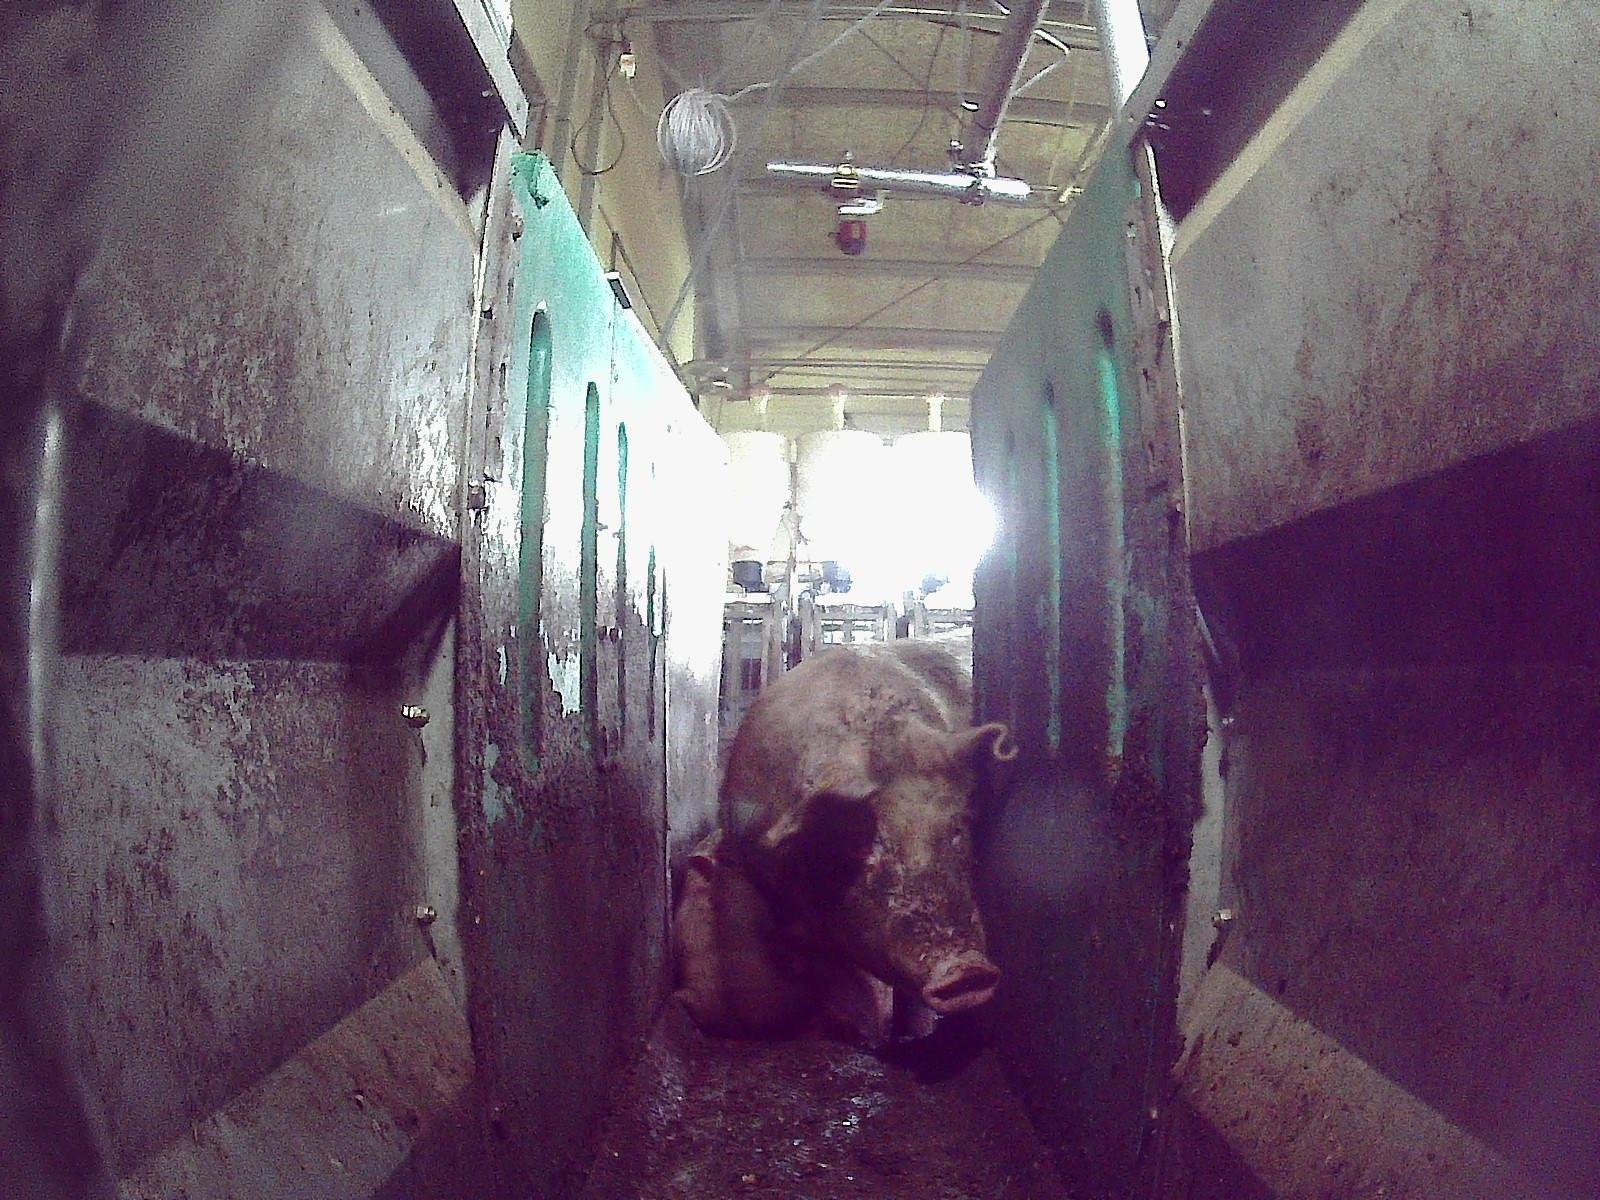Face: (781, 738, 1005, 1014)
